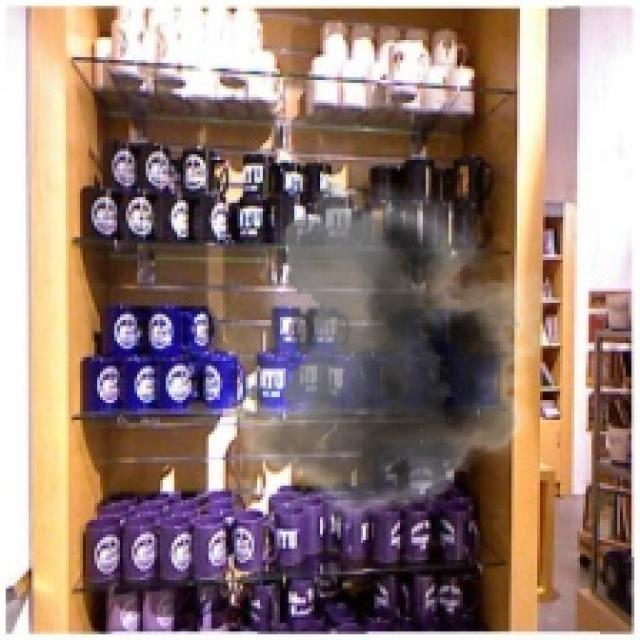smoke: (180, 183, 569, 540)
